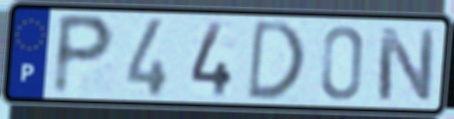0: (318, 23, 366, 102)
4: (123, 15, 171, 100), (188, 19, 237, 100)
D: (243, 17, 308, 104)
N: (375, 25, 438, 104)
P: (49, 11, 118, 99)
